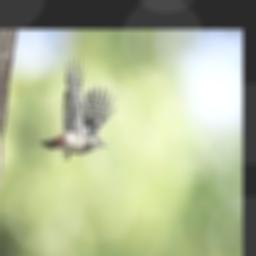Woodpecker: (40, 53, 117, 160)
